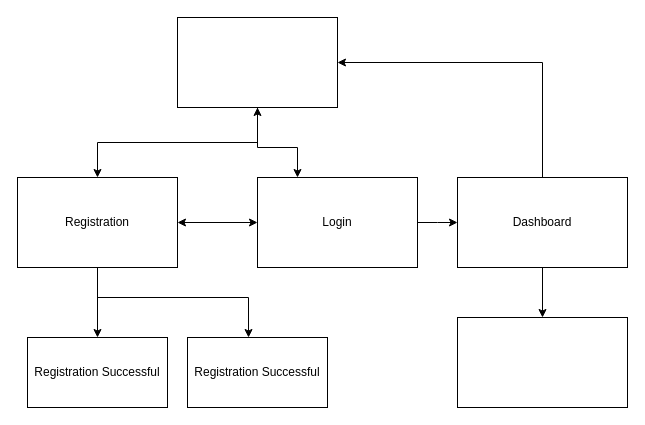
This 645x425 diagram has some shape labels left out. The centre of each missing label's shape, as x and y in pixels:
Game: (542,362)
Home: (257,62)
